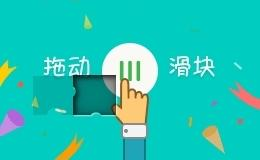target: (52, 54, 94, 96)
